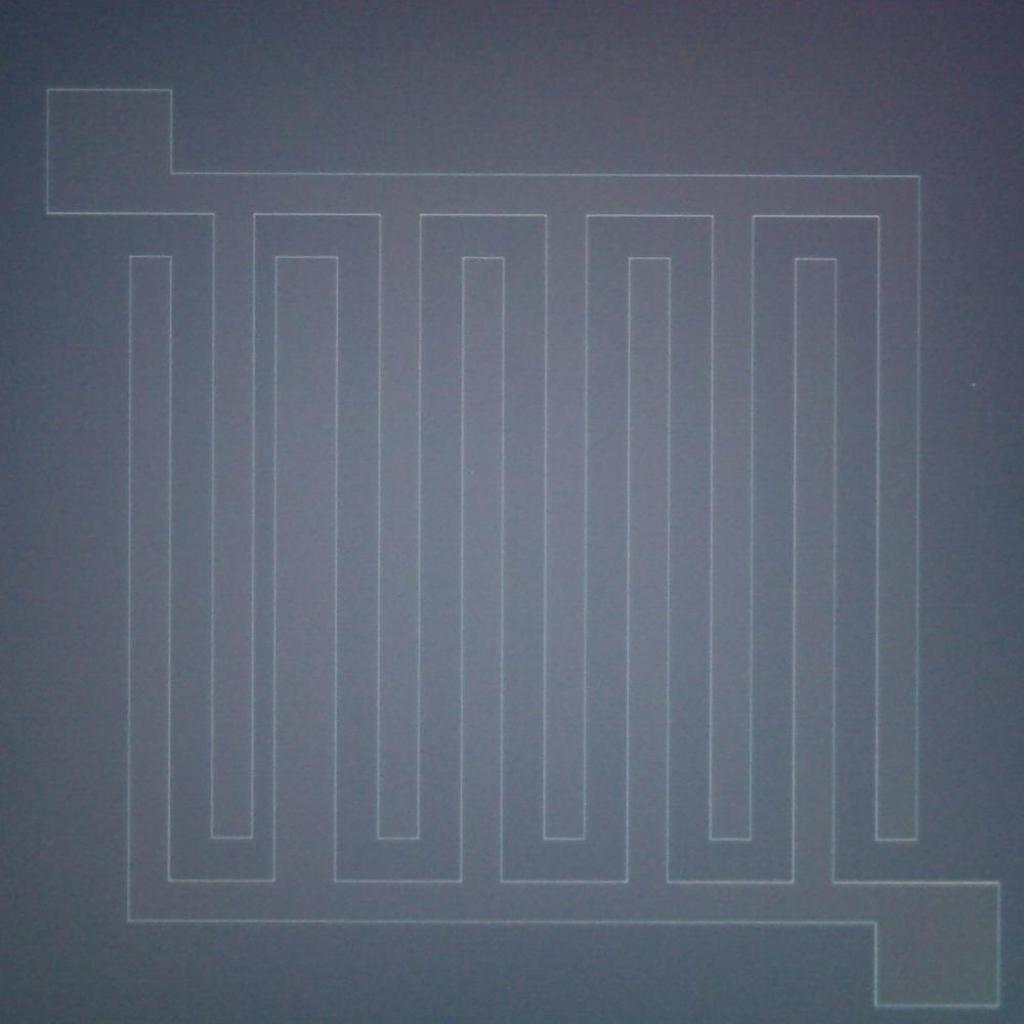dot: (972, 382, 976, 387)
